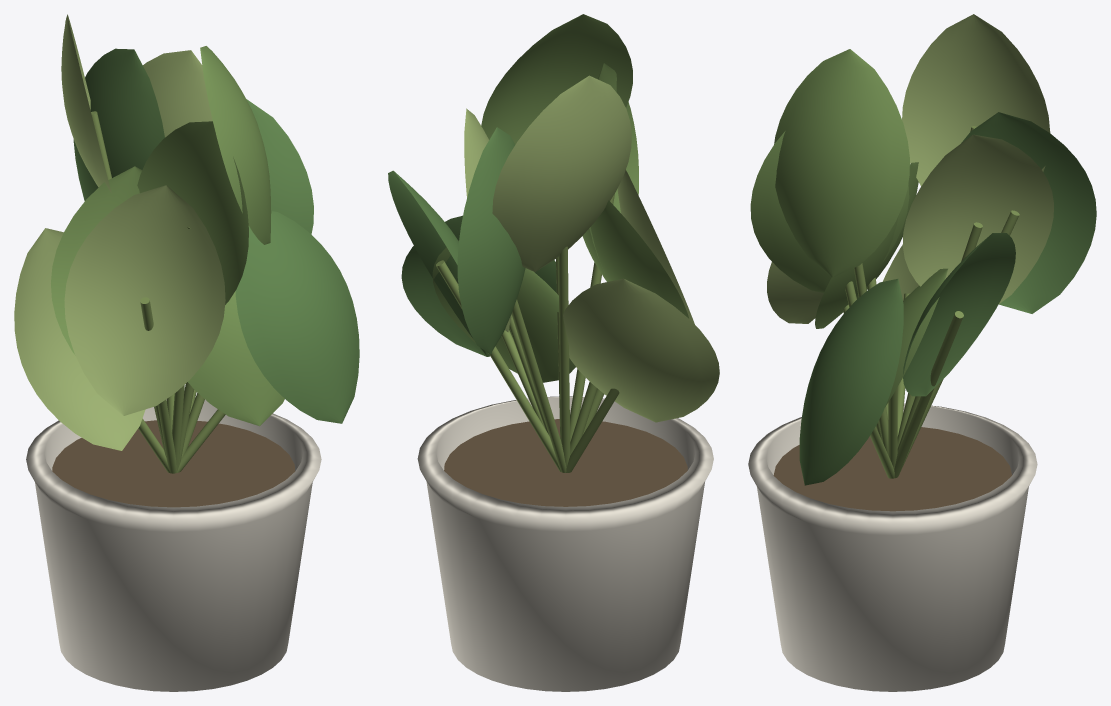
The model's file is urban-desk-plant-v1.glb.
3 views of the same model, side by side, from view 1: azimuth 30°, elevation 25°; view 2: azimuth 150°, elevation 25°; view 3: azimuth 270°, elevation 25° (orthographic). The views are drawn at different scales.
Parts seen in each view (by area): view 1: Curved-plant-leaf (×11), Ceramic-planter, Plant-soil, Plant-stem (×3); view 2: Curved-plant-leaf (×11), Ceramic-planter, Plant-soil, Plant-stem (×8); view 3: Curved-plant-leaf (×11), Ceramic-planter, Plant-soil, Plant-stem (×5).
Boxes of the visible parts, x1=… form: Curved-plant-leaf (×11): x1=14, y1=14, x2=359, y2=450; Ceramic-planter: x1=26, y1=399, x2=321, y2=691; Plant-soil: x1=52, y1=420, x2=295, y2=507; Plant-stem (×3): x1=140, y1=227, x2=225, y2=473; Curved-plant-leaf (×11): x1=388, y1=14, x2=719, y2=422; Ceramic-planter: x1=417, y1=396, x2=713, y2=691; Plant-soil: x1=444, y1=419, x2=687, y2=506; Plant-stem (×8): x1=436, y1=193, x2=619, y2=472; Curved-plant-leaf (×11): x1=750, y1=14, x2=1096, y2=485; Ceramic-planter: x1=748, y1=403, x2=1037, y2=691; Plant-soil: x1=773, y1=427, x2=1011, y2=511; Plant-stem (×5): x1=854, y1=210, x2=1019, y2=478.
Bounding box in the file's own units: 0.1011 × 0.1829 × 0.0964.
